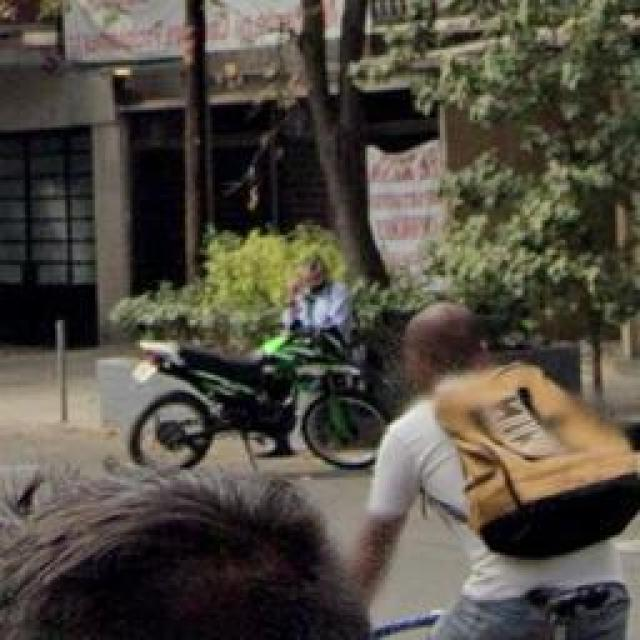motorcycle: (128, 330, 388, 470)
